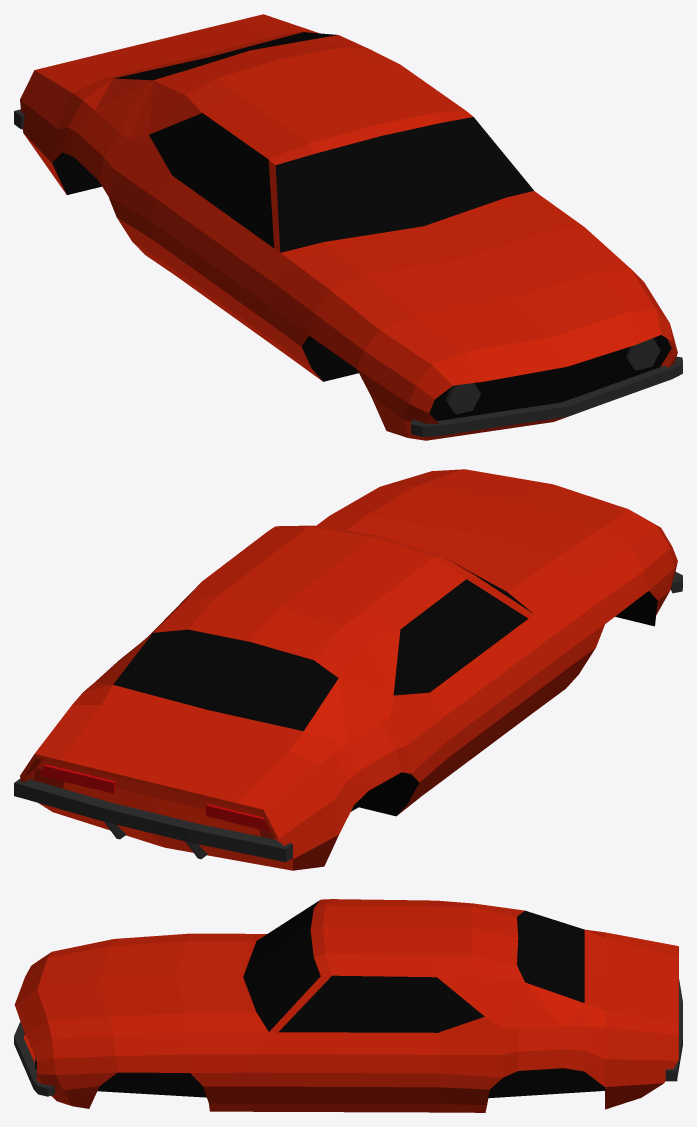
The model's file is Camaro.obj.
3 renders of one model, top to bottom at view 1: azimuth 30°, elevation 25°; view 2: azimuth 150°, elevation 25°; view 3: azimuth 270°, elevation 25°, orthographic. The views are drawn at different scales.
Visible parts, largest first — view 1: Body; view 2: Body; view 3: Body.
Boxes of the visible parts, left/top/right/bottom form: Body: left=14, top=14, right=682, bottom=440; Body: left=14, top=469, right=682, bottom=870; Body: left=14, top=899, right=682, bottom=1112.
Bounding box in the file's own units: 4.65 × 2.56 × 11.22.
